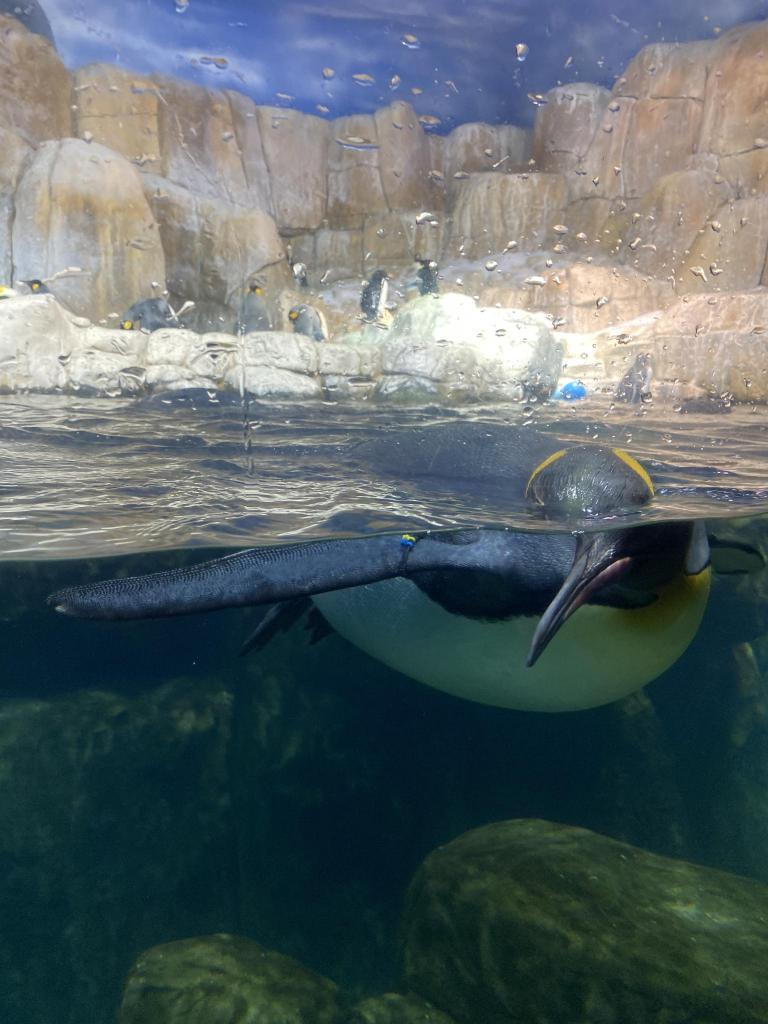penguin: (53, 456, 763, 716), (117, 289, 179, 337), (238, 280, 266, 354), (282, 298, 330, 340), (362, 266, 394, 320), (25, 272, 47, 302)
